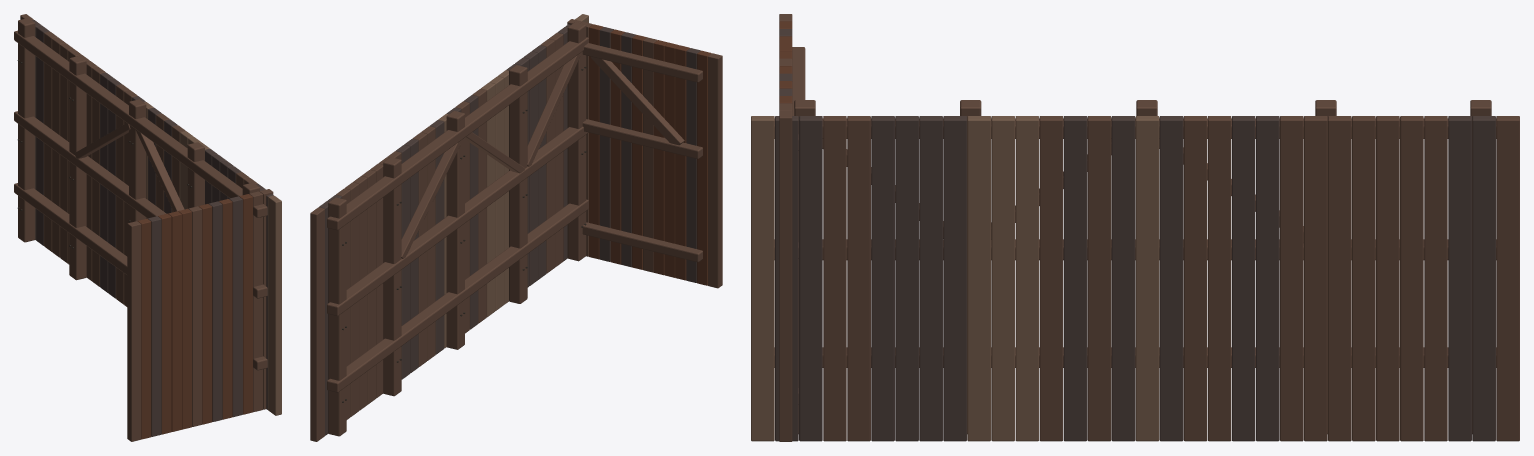
Rendered from SM_Menu_BackstageShell.fbx.
3 renders of one model, left to right at view 1: azimuth 30°, elevation 25°; view 2: azimuth 150°, elevation 25°; view 3: azimuth 270°, elevation 25°, orthographic. The views are drawn at different scales.
Visible parts, largest first — view 1: SM_Menu_BackstageShell; view 2: SM_Menu_BackstageShell; view 3: SM_Menu_BackstageShell.
Part boxes in pixels (<box>): SM_Menu_BackstageShell: <box>14,14,281,441</box>; SM_Menu_BackstageShell: <box>310,14,722,441</box>; SM_Menu_BackstageShell: <box>751,14,1519,441</box>.
Bounding box in the file's own units: 461 × 1439 × 679.
